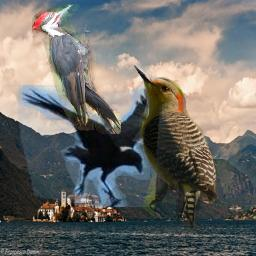Crow: (18, 85, 165, 207)
Woodpecker: (133, 65, 217, 229), (32, 4, 121, 134)
